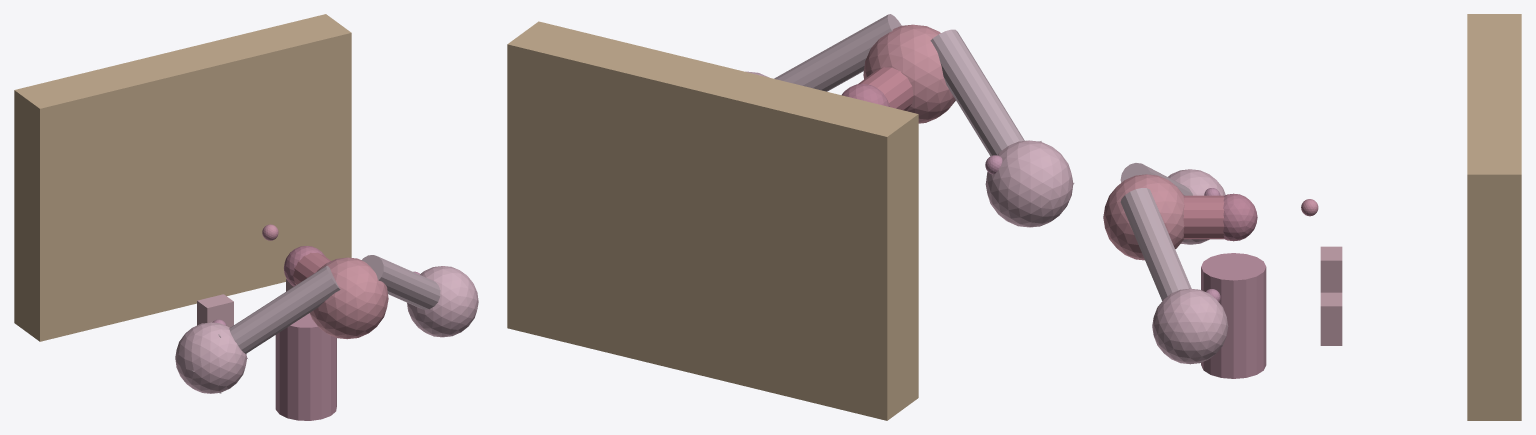
File: female_reproductive_system.glb
The picture shows the model from 3 angles, left to right: view 1: azimuth 30°, elevation 25°; view 2: azimuth 150°, elevation 25°; view 3: azimuth 270°, elevation 25°; orthographic projection. The views are drawn at different scales.
Visible parts, largest first — view 1: world; view 2: world; view 3: world.
Part boxes in pixels (box(x1,y1,x2,y2)): world: box(14, 14, 478, 420); world: box(507, 14, 1074, 420); world: box(1103, 14, 1521, 420).
Bounding box in the file's own units: 3.5 × 2.75 × 3.85.
